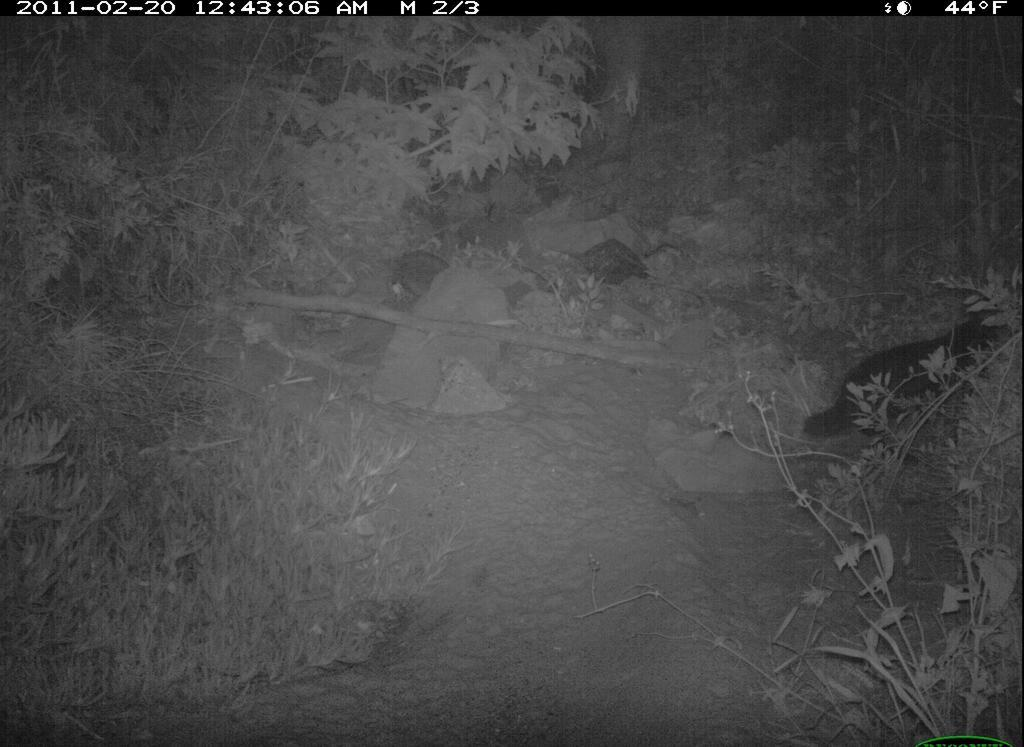cat: (802, 299, 1016, 449)
